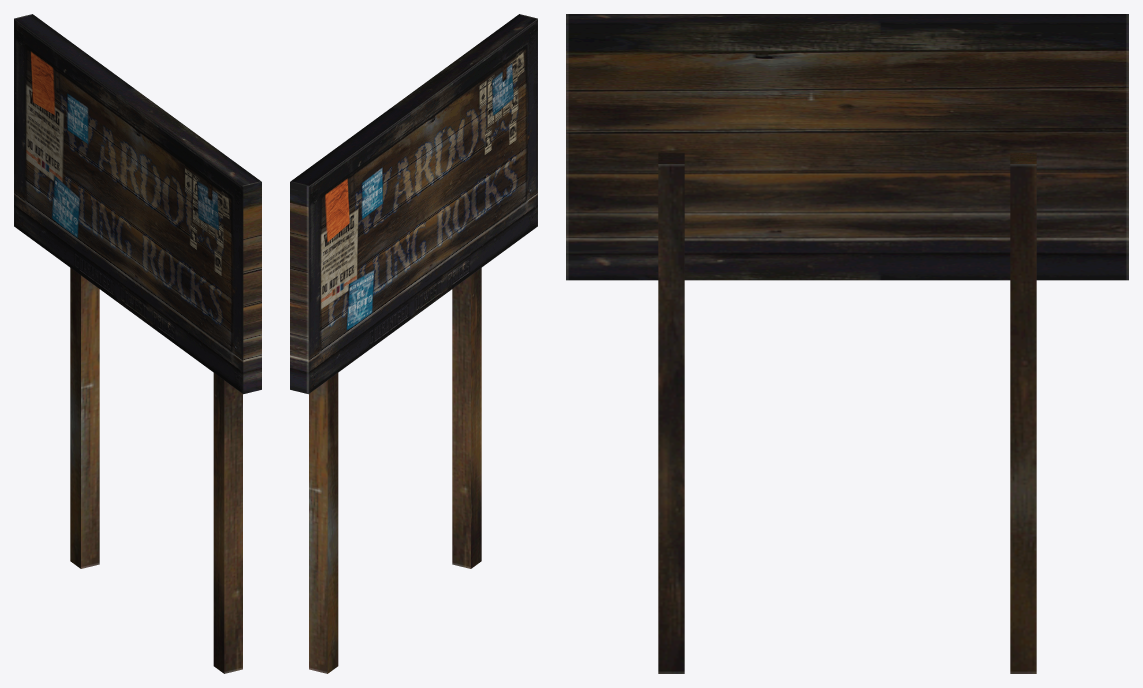
Rendered from minesign2.fbx.
The picture shows the model from 3 angles, left to right: view 1: azimuth 30°, elevation 25°; view 2: azimuth 150°, elevation 25°; view 3: azimuth 270°, elevation 25°; orthographic projection. The views are drawn at different scales.
Visible parts, largest first — view 1: minesign2; view 2: minesign2; view 3: minesign2.
Boxes of the visible parts, x1,y1,x2,y2 form: minesign2: [14, 14, 261, 673]; minesign2: [290, 14, 537, 673]; minesign2: [566, 14, 1128, 673].
Size of the model in its own units: 1200 by 16000 by 12800.
